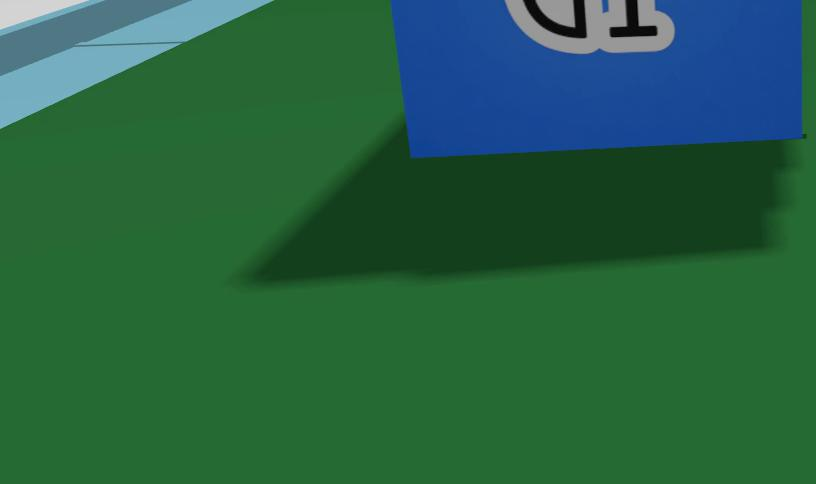KFS_REAL: (391, 0, 803, 155), (511, 0, 673, 52), (507, 0, 511, 2)
